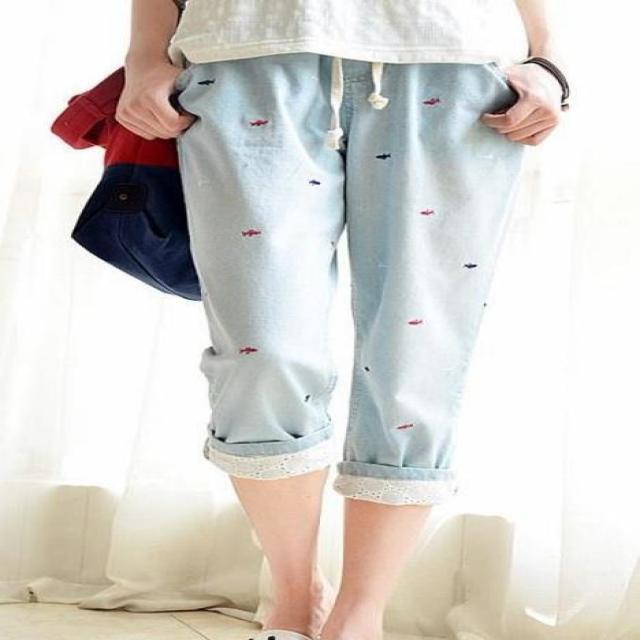trousers: (118, 33, 557, 533)
